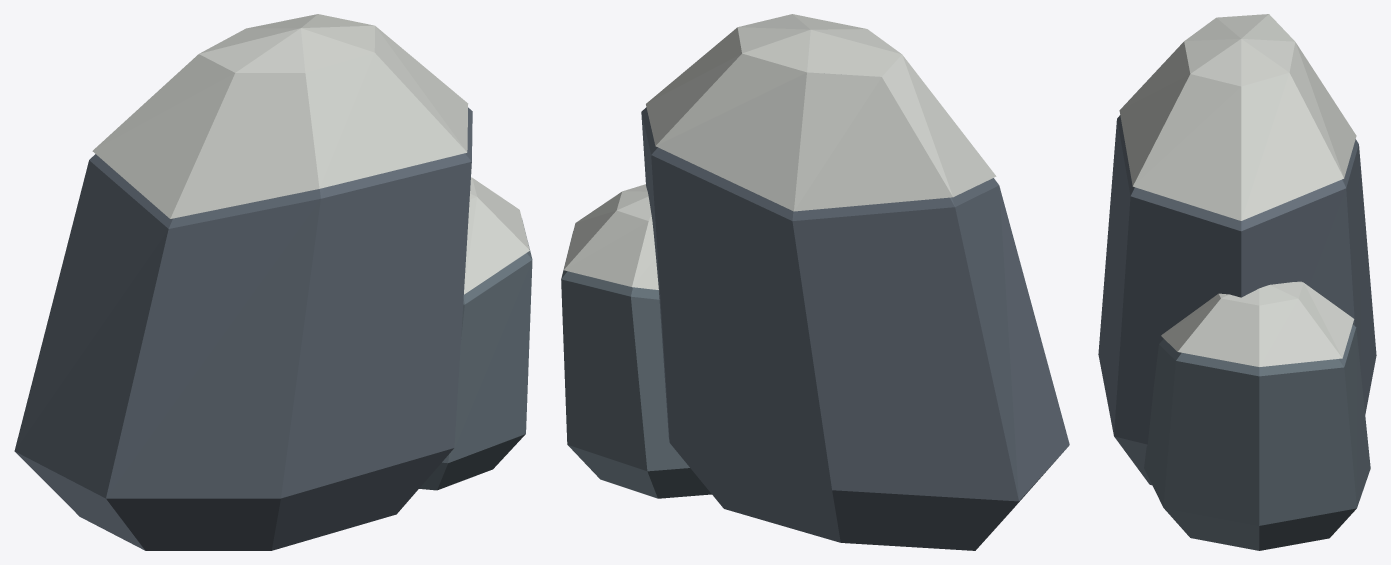
3 views of the same model, side by side, from view 1: azimuth 30°, elevation 25°; view 2: azimuth 150°, elevation 25°; view 3: azimuth 270°, elevation 25° (orthographic). The views are drawn at different scales.
Visible parts, largest first — view 1: R04_雪覆双脊岩; view 2: R04_雪覆双脊岩; view 3: R04_雪覆双脊岩.
Boxes of the visible parts, box(x1,y1,x2,y2) form: R04_雪覆双脊岩: box(14, 14, 532, 550); R04_雪覆双脊岩: box(561, 14, 1069, 550); R04_雪覆双脊岩: box(1098, 14, 1376, 550).
Size of the model in its own units: 1.41 by 1.29 by 0.767.
